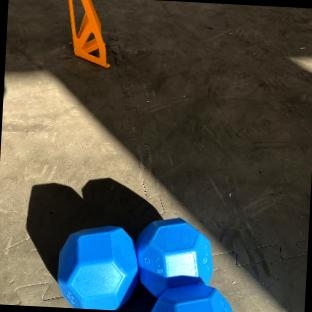V5_BLUE: (56, 217, 231, 312)
